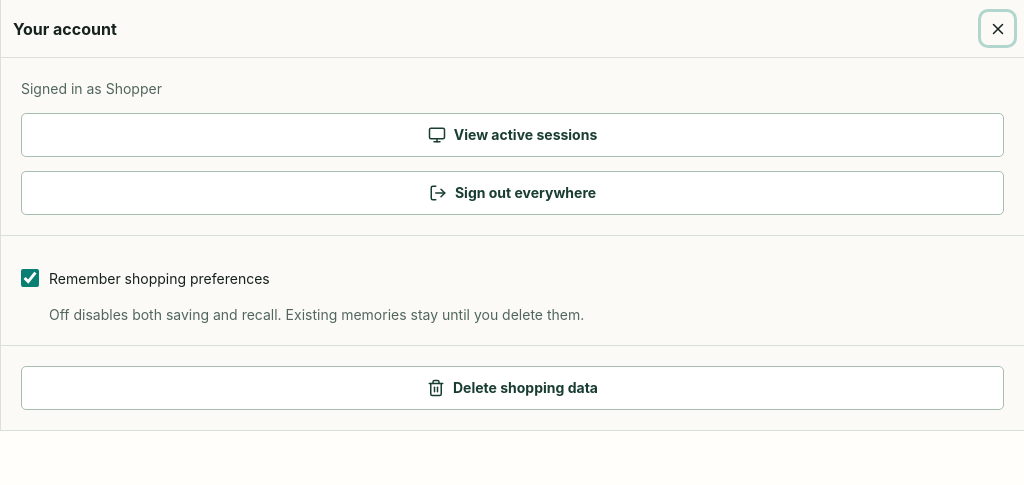
account session errors › preserves ordinary protected-action errors: {}
This screenshot has width=1024, height=485.
Click the button "View active sessions" at (512, 135), box [21,113,1004,157]
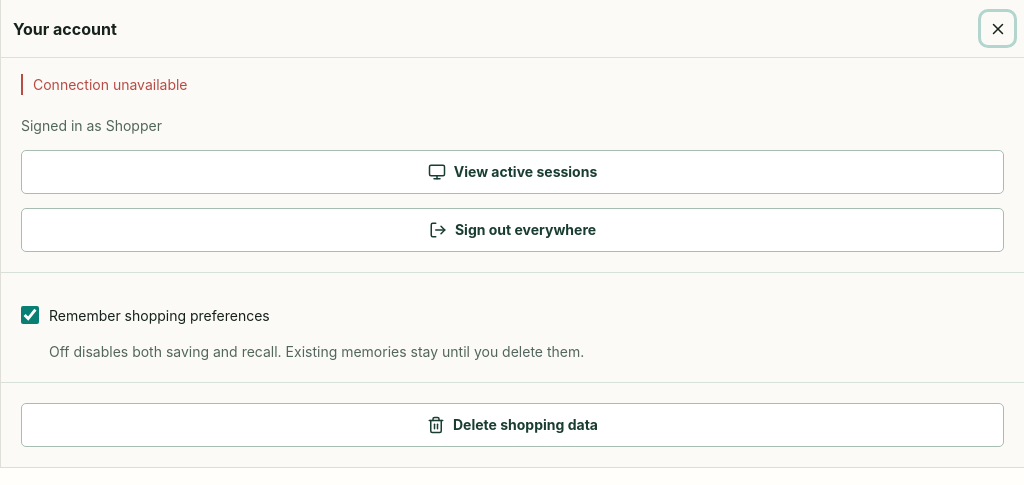
Check: the message reads "Connection unavailable", box [33,76,188,93]
